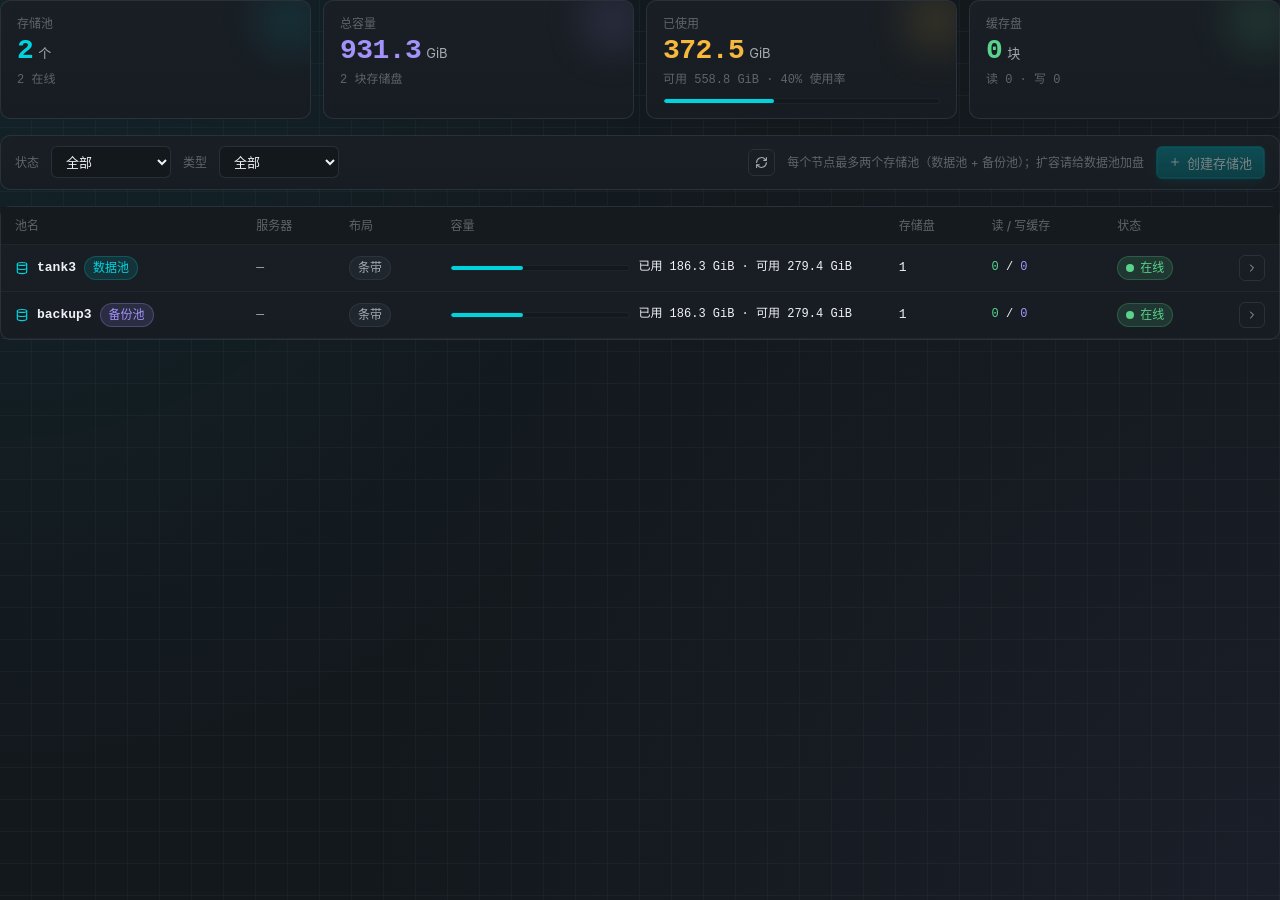
Test: 存储页 › 按池类型筛选
The image size is (1280, 900).
Expected: the text "tank3" is shown, [37,259,76,278]
Select "备份池" in the dropdown named "按类型筛选" at (279, 162), box [219,146,339,178]
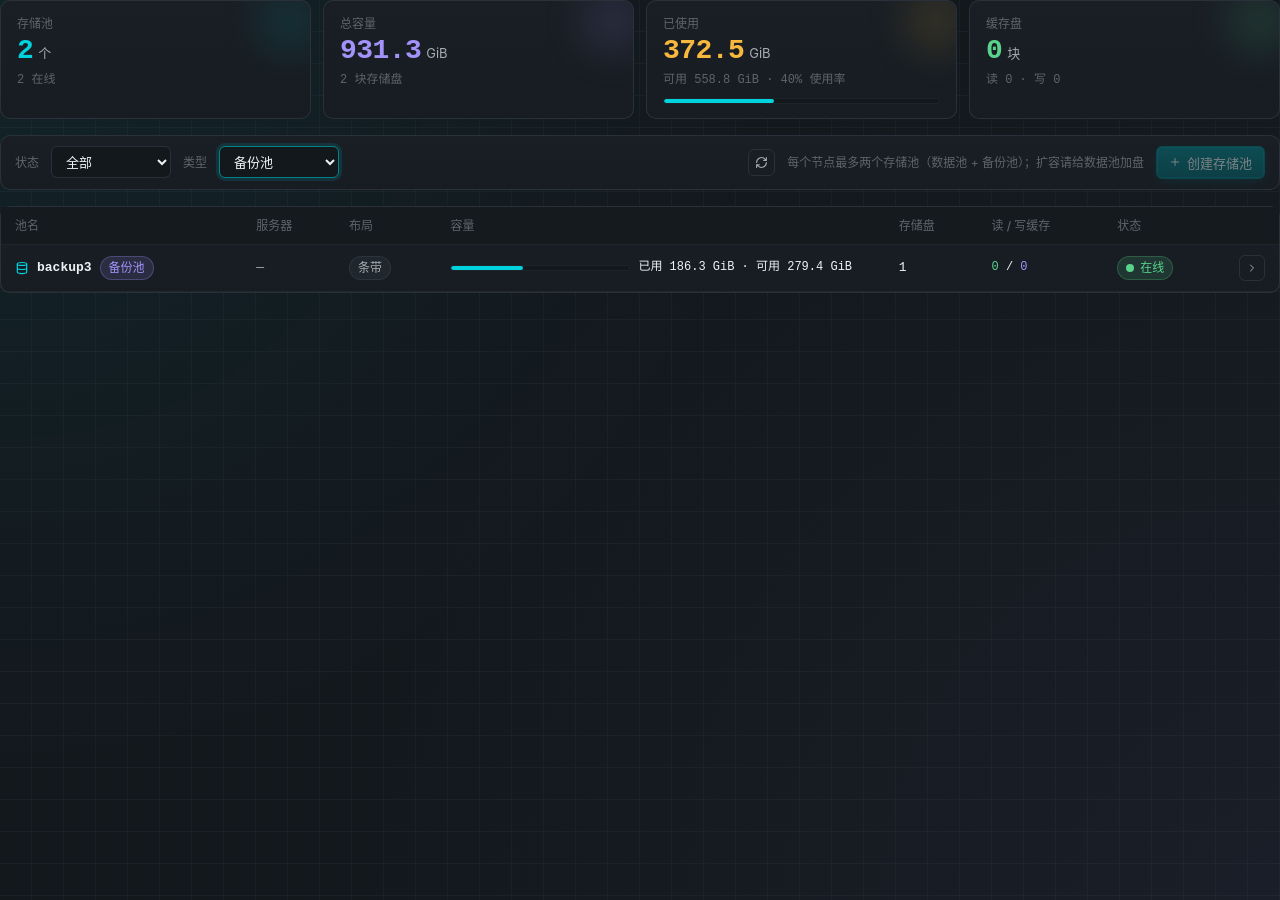
Expected: the text "backup3" is shown, [37,259,92,278]
Result: the text "tank3" is gone
